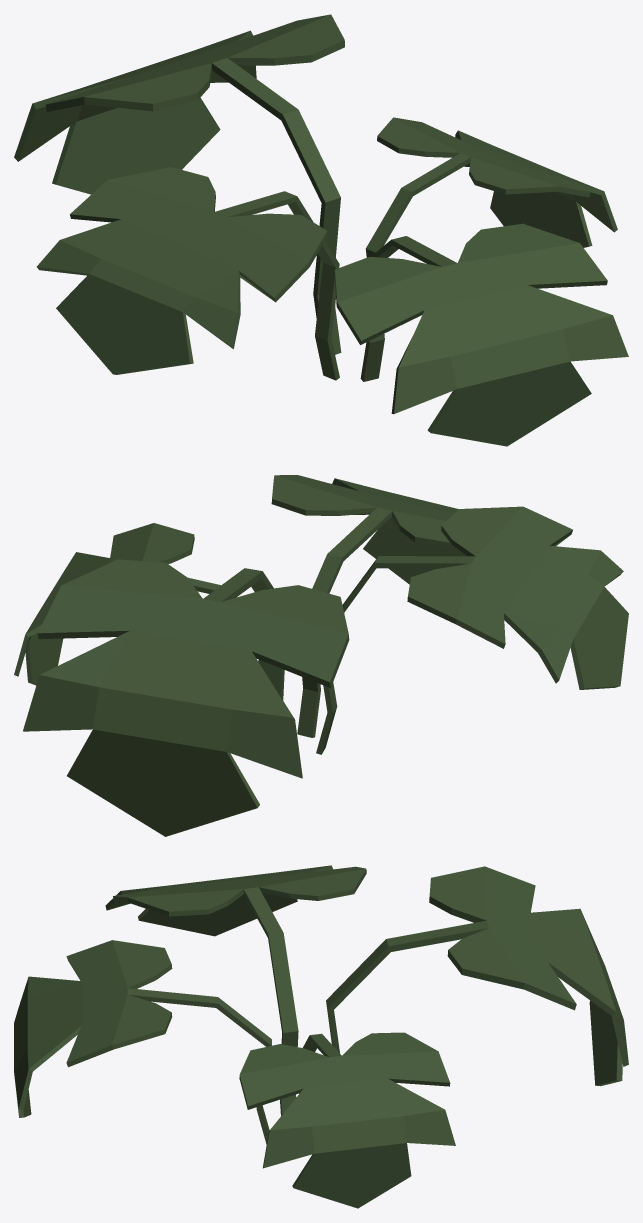
The model's file is plants.001.fbx.
3 renders of one model, top to bottom at view 1: azimuth 30°, elevation 25°; view 2: azimuth 150°, elevation 25°; view 3: azimuth 270°, elevation 25°, orthographic. The views are drawn at different scales.
Visible parts, largest first — view 1: plants.001; view 2: plants.001; view 3: plants.001.
Part boxes in pixels (x1=…): plants.001: x1=14, y1=14, x2=628, y2=446; plants.001: x1=14, y1=475, x2=628, y2=836; plants.001: x1=14, y1=865, x2=628, y2=1208.
Size of the model in its own units: 1.55 by 0.6548 by 1.71.
